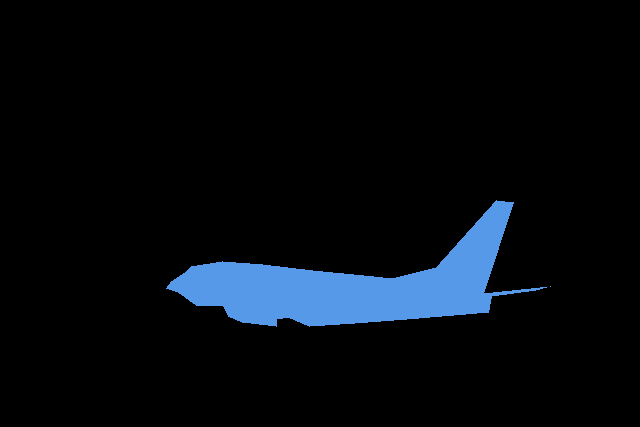Airplane: (166, 200, 550, 326)
